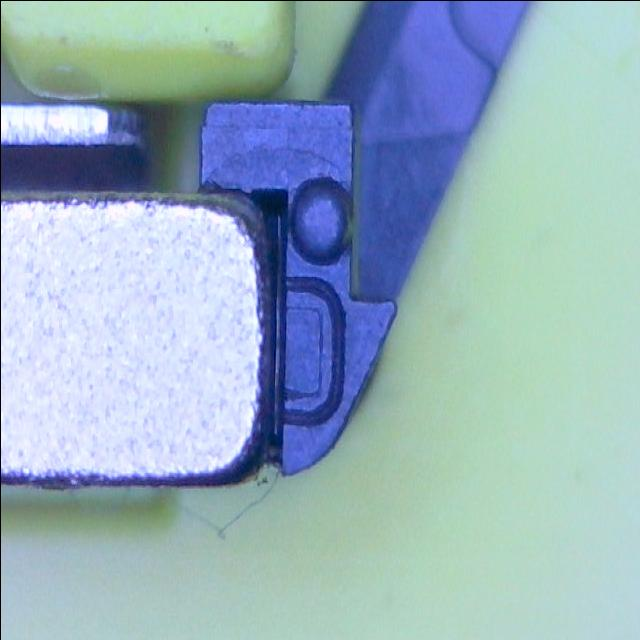lacking: (276, 274, 346, 428)
